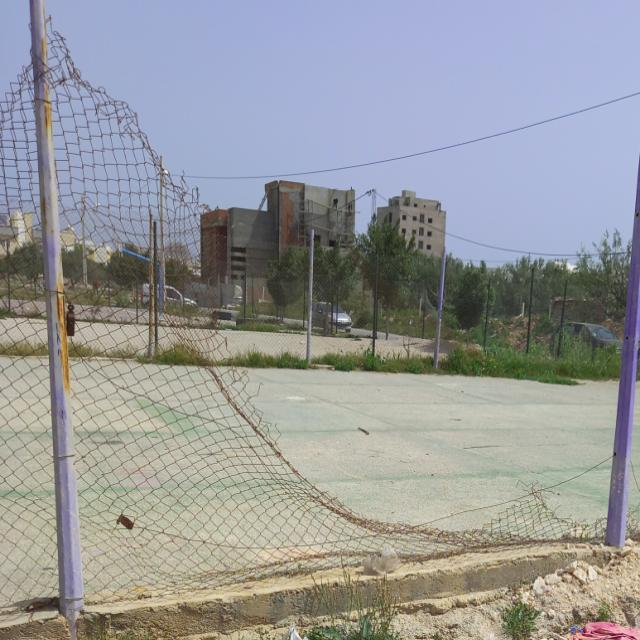fence line: (156, 109, 607, 521)
